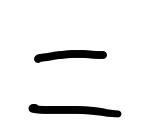eqv: (29, 50, 122, 118)
